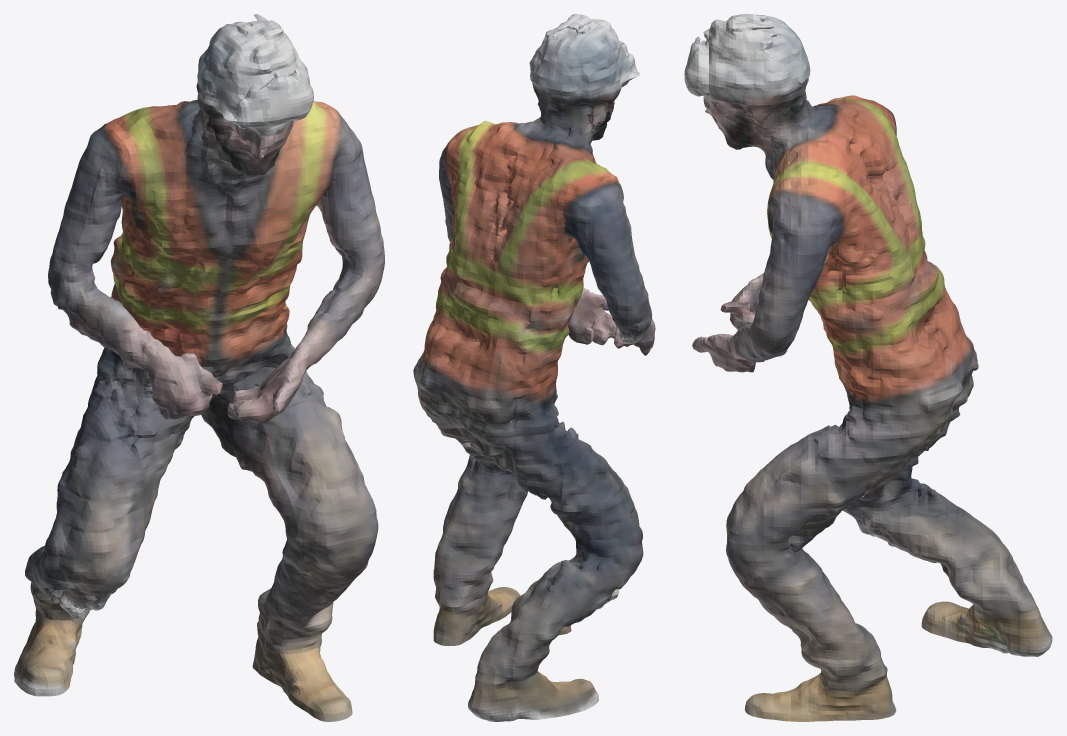
Rendered from standup_10.glb.
3 renders of one model, left to right at view 1: azimuth 30°, elevation 25°; view 2: azimuth 150°, elevation 25°; view 3: azimuth 270°, elevation 25°, orthographic. The views are drawn at different scales.
Parts seen in each view (by area): view 1: world; view 2: world; view 3: world.
Boxes of the visible parts, box(x1,y1,x2,y2) form: world: box(14, 14, 384, 721); world: box(413, 14, 655, 721); world: box(684, 14, 1052, 721).
Size of the model in its own units: 0.6934 by 1.65 by 0.8427.
